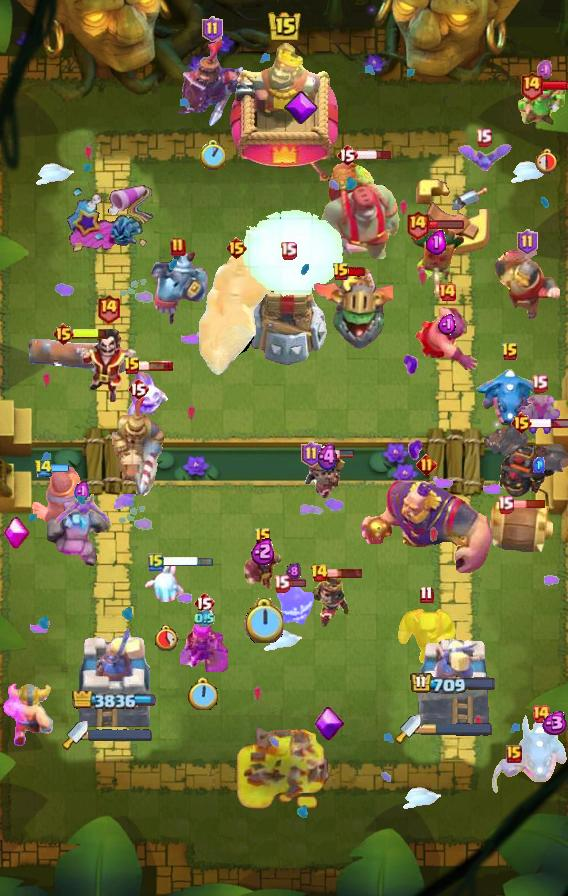archer-evolution: (180, 607, 228, 672)
bar: (161, 555, 215, 568), (72, 327, 108, 340), (327, 567, 364, 579), (356, 149, 393, 161), (138, 360, 174, 372), (530, 418, 568, 429), (428, 219, 465, 230), (319, 449, 355, 459), (511, 499, 546, 509), (542, 79, 568, 91), (348, 266, 367, 278), (50, 463, 69, 474), (288, 578, 307, 588)
bar-level: (96, 293, 121, 324), (405, 209, 430, 240), (519, 70, 544, 101), (510, 411, 533, 435), (52, 322, 75, 346), (225, 236, 248, 260), (301, 441, 322, 467), (517, 229, 538, 255), (202, 16, 223, 42), (193, 591, 215, 615), (127, 377, 149, 401), (336, 143, 358, 167), (416, 454, 437, 475), (531, 704, 551, 724), (437, 282, 457, 302), (310, 563, 329, 583), (34, 459, 53, 478), (254, 527, 272, 547), (123, 356, 141, 376), (501, 342, 519, 362), (332, 262, 350, 282), (273, 574, 290, 593), (497, 495, 514, 514), (531, 374, 548, 393), (280, 241, 297, 260), (475, 128, 492, 147), (148, 552, 164, 572), (170, 237, 186, 257), (506, 745, 522, 763), (419, 585, 434, 604)
barbarian-barrel: (482, 501, 556, 553)
bat-evolution: (52, 493, 112, 531), (453, 143, 513, 173), (490, 759, 538, 795)
clock: (244, 598, 283, 643), (188, 677, 220, 713), (199, 140, 226, 170), (153, 624, 179, 651), (533, 147, 558, 174)
dagger-duchess-tower: (75, 623, 153, 731), (416, 637, 490, 731)
dagger-duchess-tower-bar: (421, 722, 493, 736), (88, 729, 152, 741)
dart-goblin: (406, 222, 466, 300)
electro-dragon: (474, 366, 546, 430), (512, 710, 568, 784)
electro-spirit: (271, 581, 315, 629)
electro-wizard: (77, 329, 139, 405)
elite-barbarian: (3, 681, 54, 747)
elixir: (315, 443, 341, 471), (251, 537, 276, 565), (539, 711, 568, 735), (426, 229, 447, 255), (194, 609, 215, 628), (438, 314, 457, 335), (74, 480, 90, 504), (537, 59, 554, 81), (286, 562, 301, 581), (533, 457, 545, 473)
evolution-symbol: (283, 90, 319, 126), (313, 705, 346, 743), (2, 517, 30, 551)
executioner: (414, 307, 480, 373)
goblin: (516, 395, 562, 437)
goblin-brawler: (395, 608, 457, 664)
golemite: (47, 494, 109, 570)
ice-spirit: (144, 564, 188, 602)
ice-spirit-evolution: (126, 369, 168, 419)
king-tower: (230, 43, 338, 181)
knight: (494, 249, 560, 321), (31, 464, 82, 524)
little-prince: (302, 454, 355, 506), (308, 573, 352, 627)
mega-minion: (148, 248, 208, 326)
spear-goblin: (518, 83, 568, 127)
the-log: (26, 337, 128, 373)
tower-bar: (410, 672, 497, 696), (72, 691, 157, 709)
wizard: (241, 543, 285, 595)
